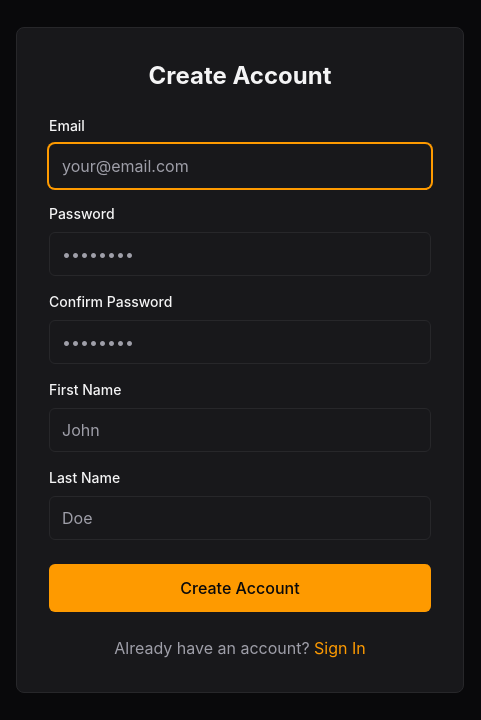
it: Phase 1+2: Foundation, Auth Store & Auth UI › RegisterPage (AUTH-01) › validates required fields (AUTH-01)
Click the button "Create Account": (240, 588) [49,564,431,612]
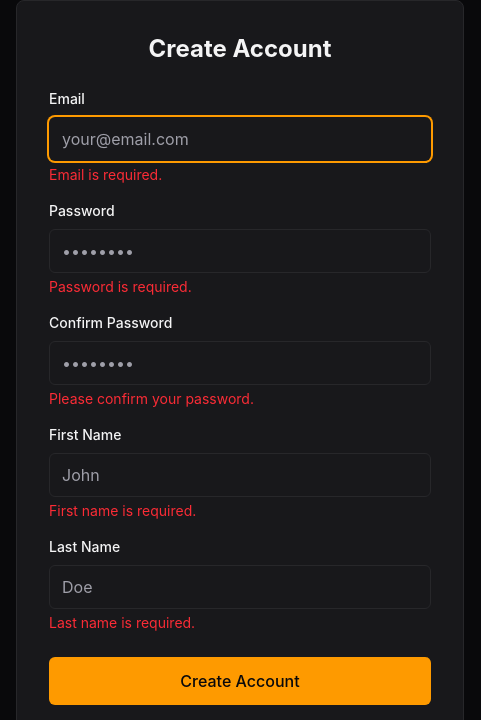
Expected: the text "Email is required." is shown, [49,166,162,183]
Expected: the text "Password is required." is shown, [49,278,192,295]
Expected: the text "First name is required." is shown, [49,502,196,519]
